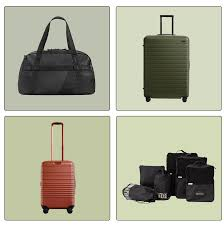suitcase: (143, 14, 189, 103), (38, 121, 77, 215)
